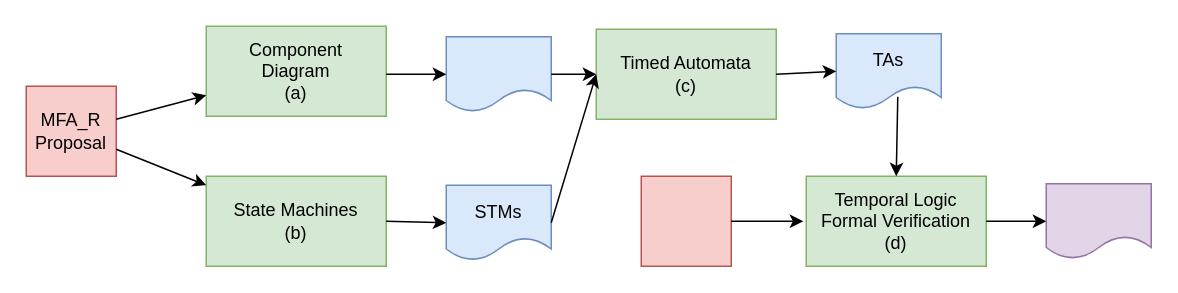
Some shapes in this 1178 by 293 pixel diagram are drawn without their labels. Each missing label, with the centre of its shape:
"DCs" goes at (498,73).
"Formal Verification" goes at (1098,220).
"Security Aspects" goes at (685,220).
